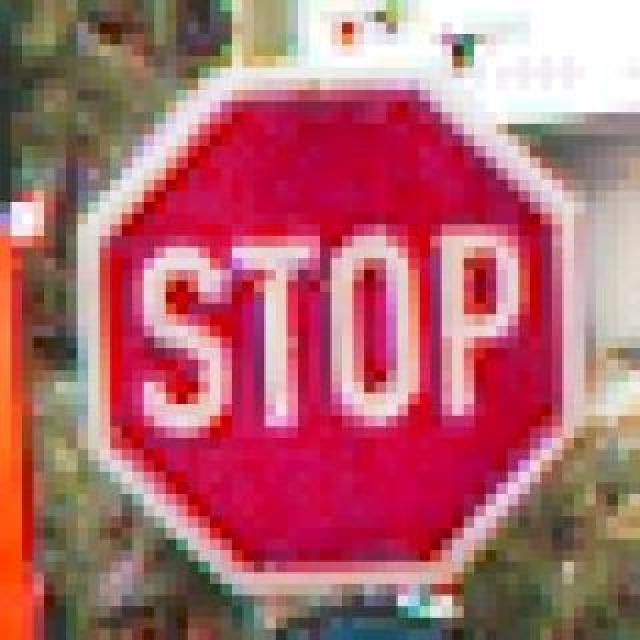stop: (66, 56, 574, 584)
